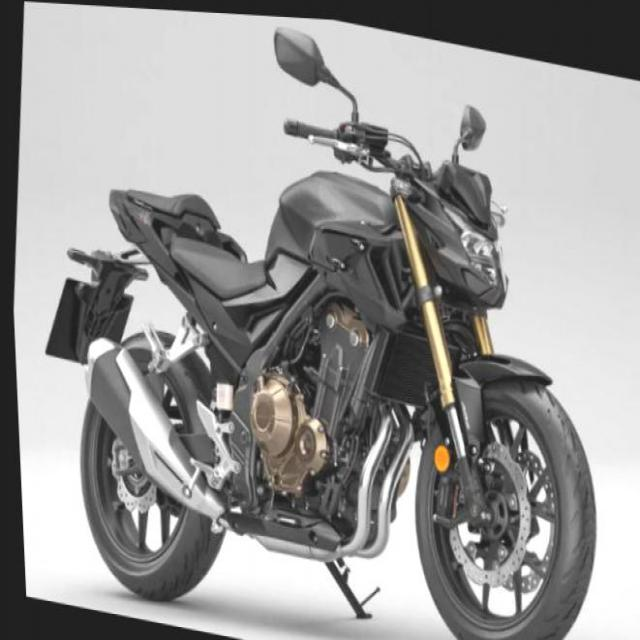CB500F: (10, 0, 632, 639)
